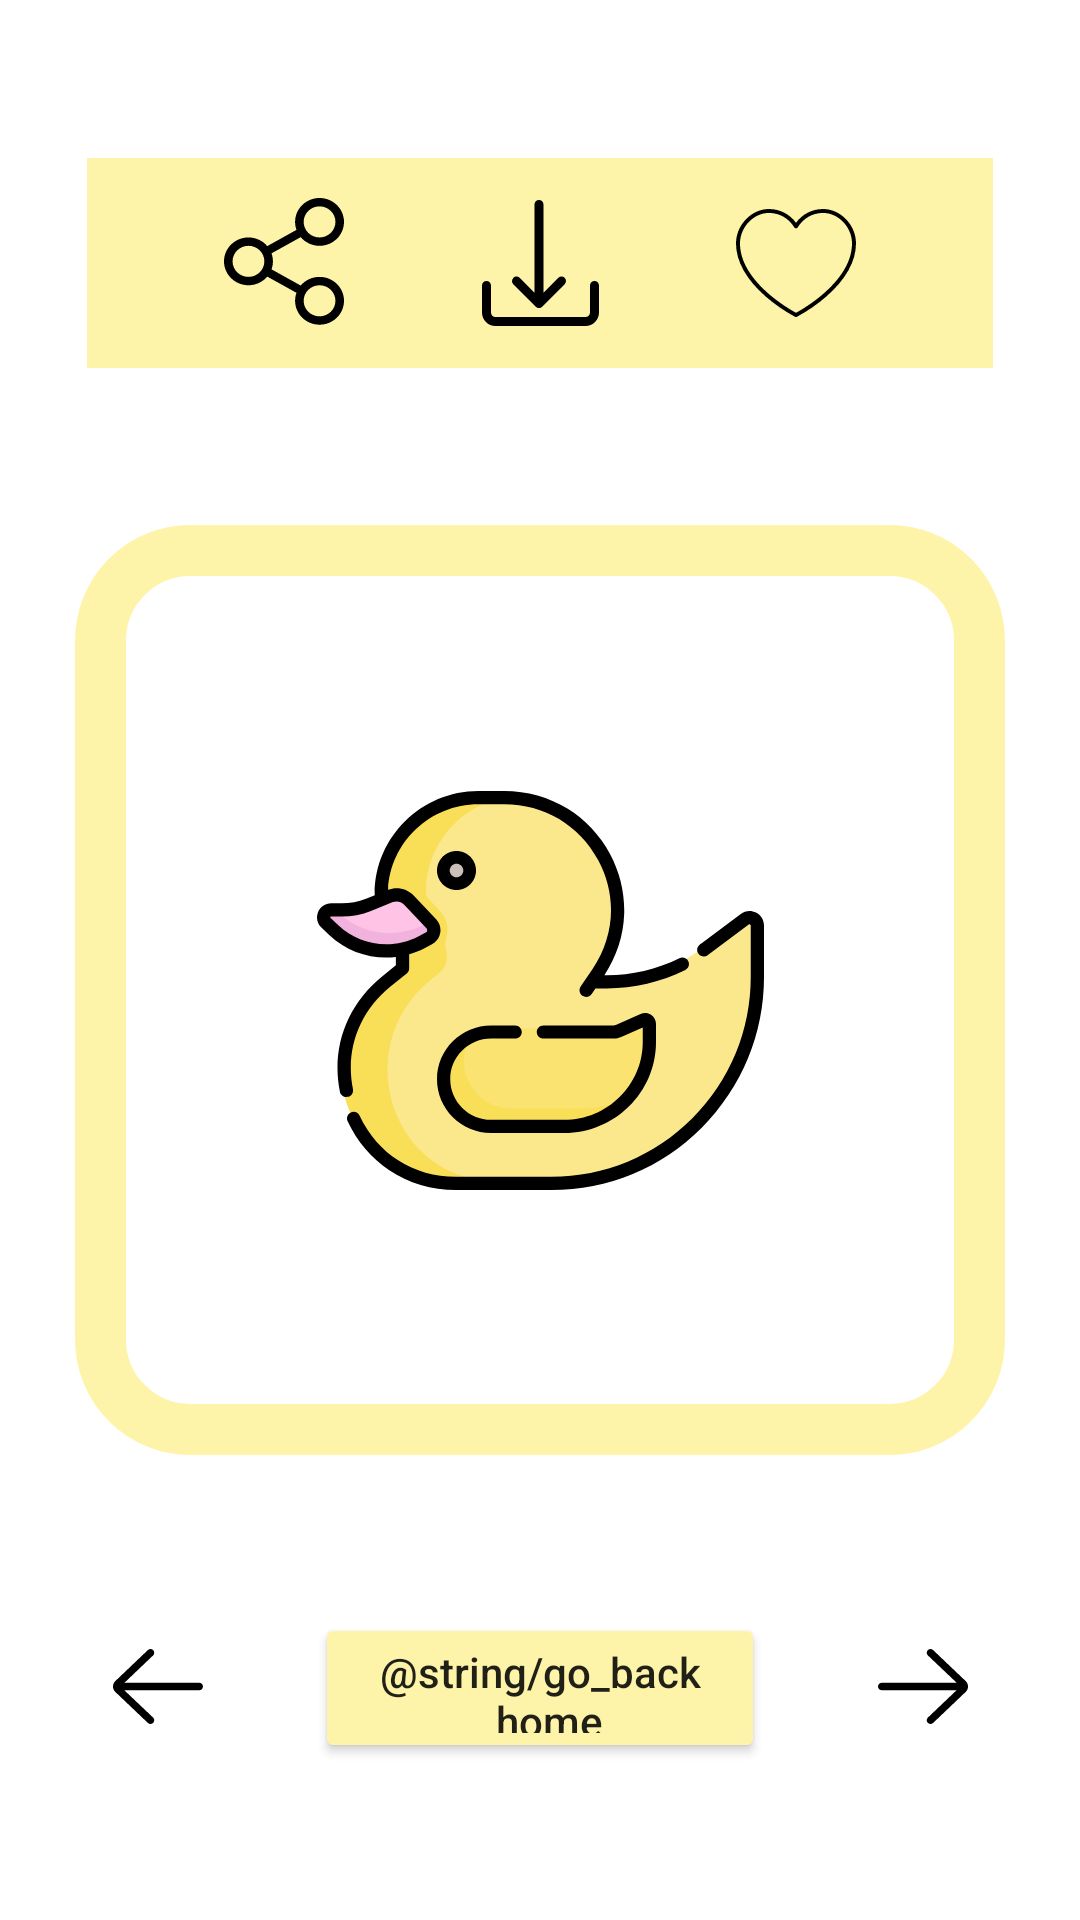

Point at icon controls on the screen. Image size 1080px x 1920px, points as (x,y).
download: (540,263)
like unactive: (796,263)
next: (923,1686)
share: (284,261)
